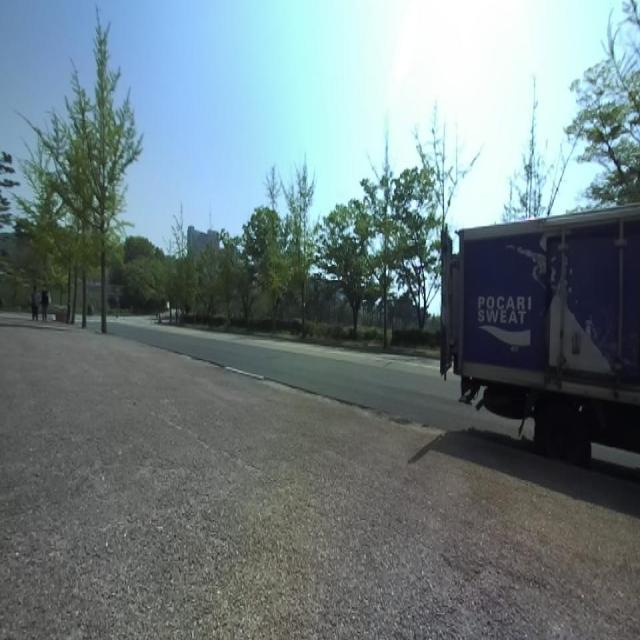sidewalk: (0, 325, 640, 638)
